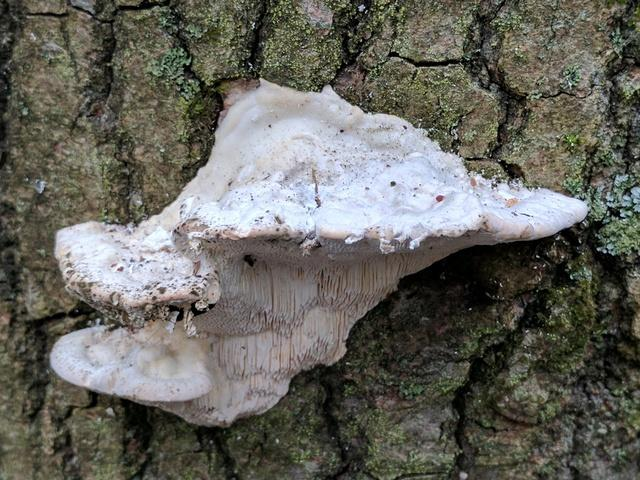poisonous_mushroom: (48, 76, 589, 429)
